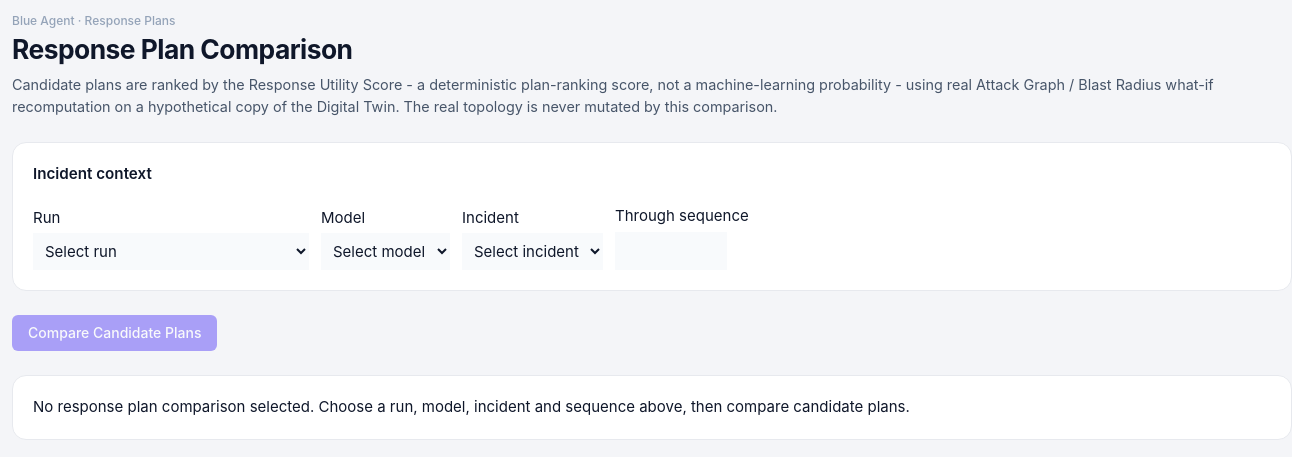
Test case: Blue Agent response plan comparison › surfaces plan-comparison failures without crashing
Select "run-1 · staged-compromise-demo" in the dropdown named "Blue Agent run" at (171, 252), box [33, 233, 309, 270]
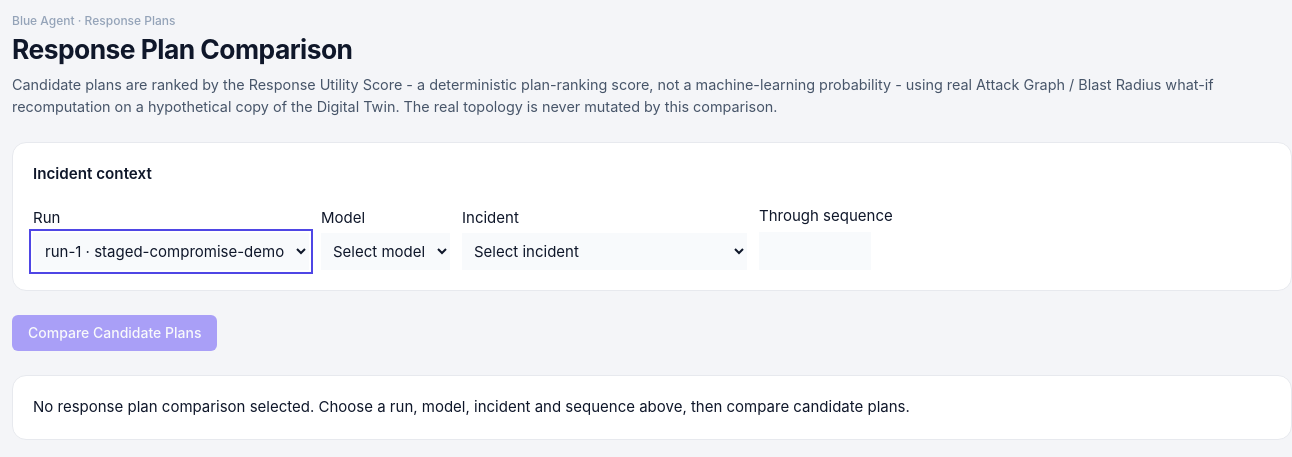
Select "model-1" in the dropdown named "Blue Agent model" at (386, 252), box [321, 233, 450, 270]
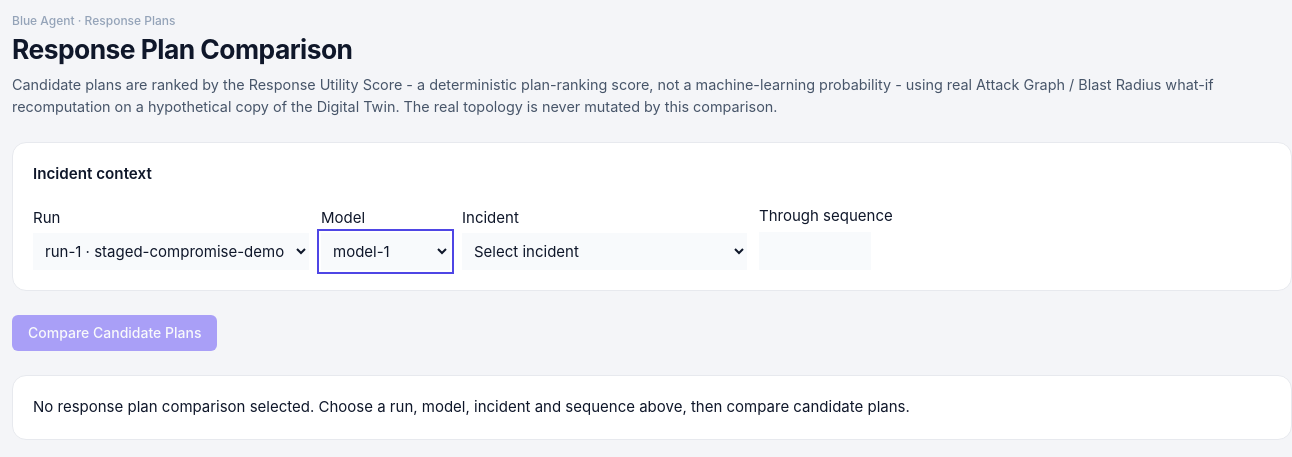
Select "Staged compromise incident (high)" in the dropdown named "Blue Agent incident candidate" at (604, 252), box [462, 233, 747, 270]
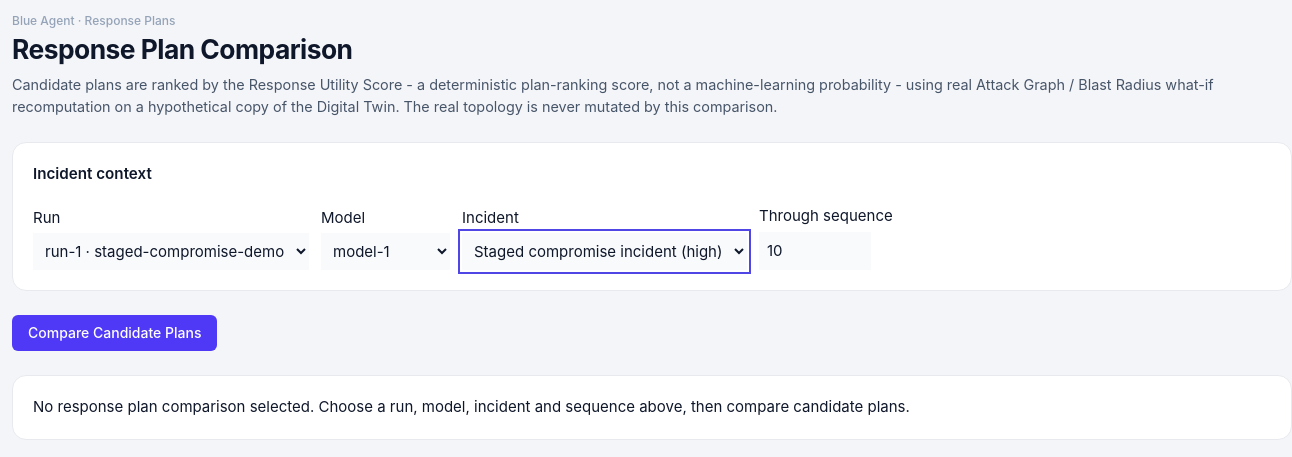
Click the button "Compare Candidate Plans".
click(115, 333)  # box [12, 315, 217, 351]
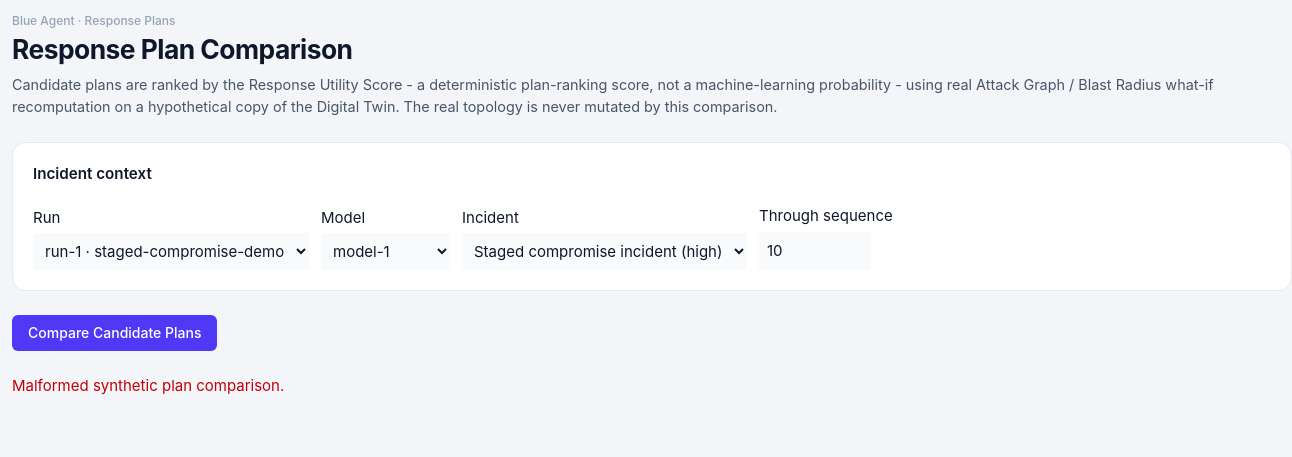
Expected: the message reads "Malformed synthetic plan comparison.", [12, 376, 284, 395]
